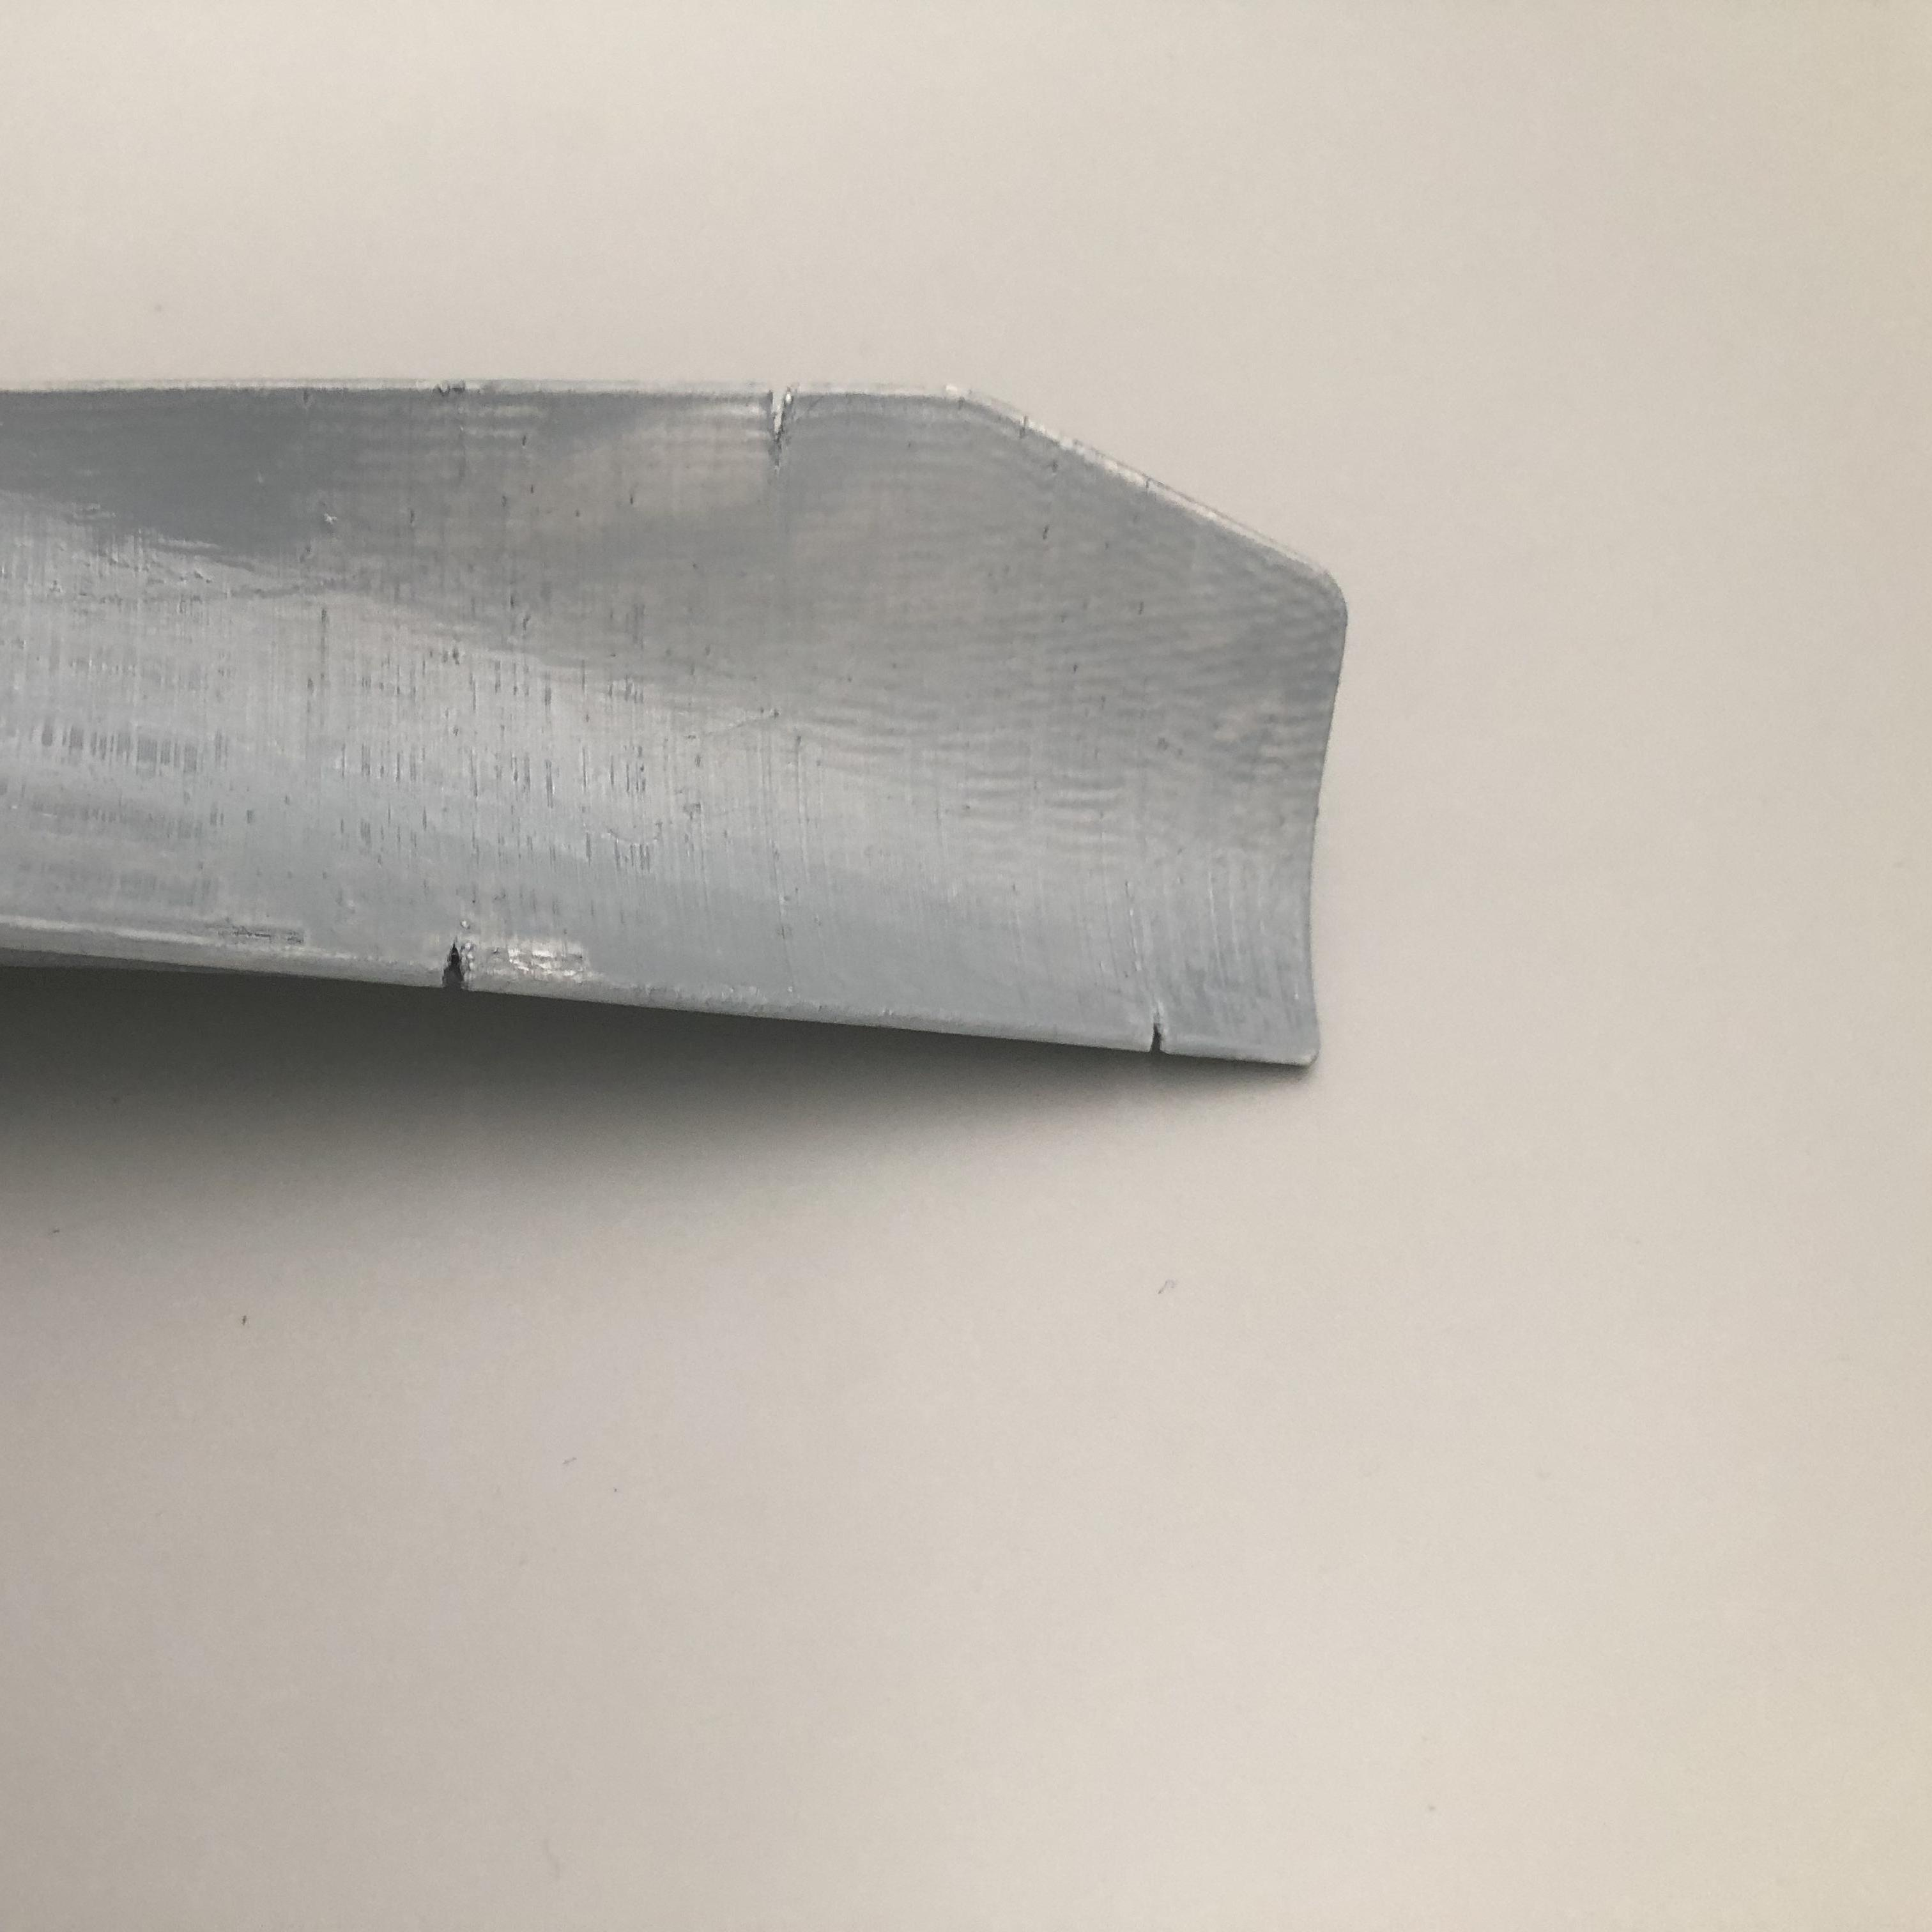groove: (752, 389, 809, 458), (432, 943, 494, 991), (1134, 1007, 1191, 1058)
